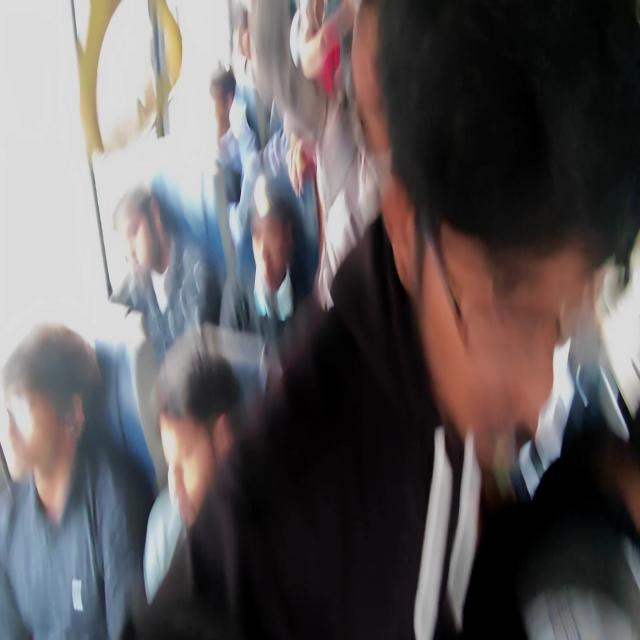person: (363, 36, 634, 462), (348, 28, 482, 248), (153, 369, 258, 548), (0, 353, 77, 587), (106, 214, 178, 328), (228, 5, 282, 70), (248, 206, 292, 285), (214, 78, 229, 138), (289, 130, 311, 170)
